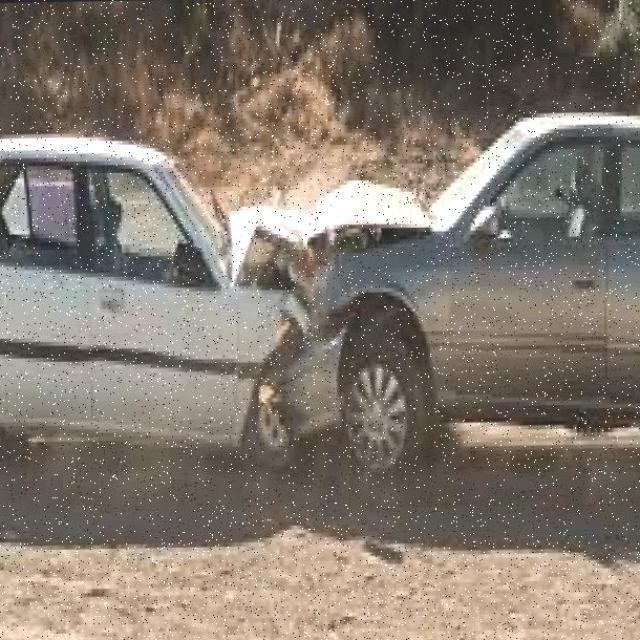accident: (154, 163, 459, 472)
